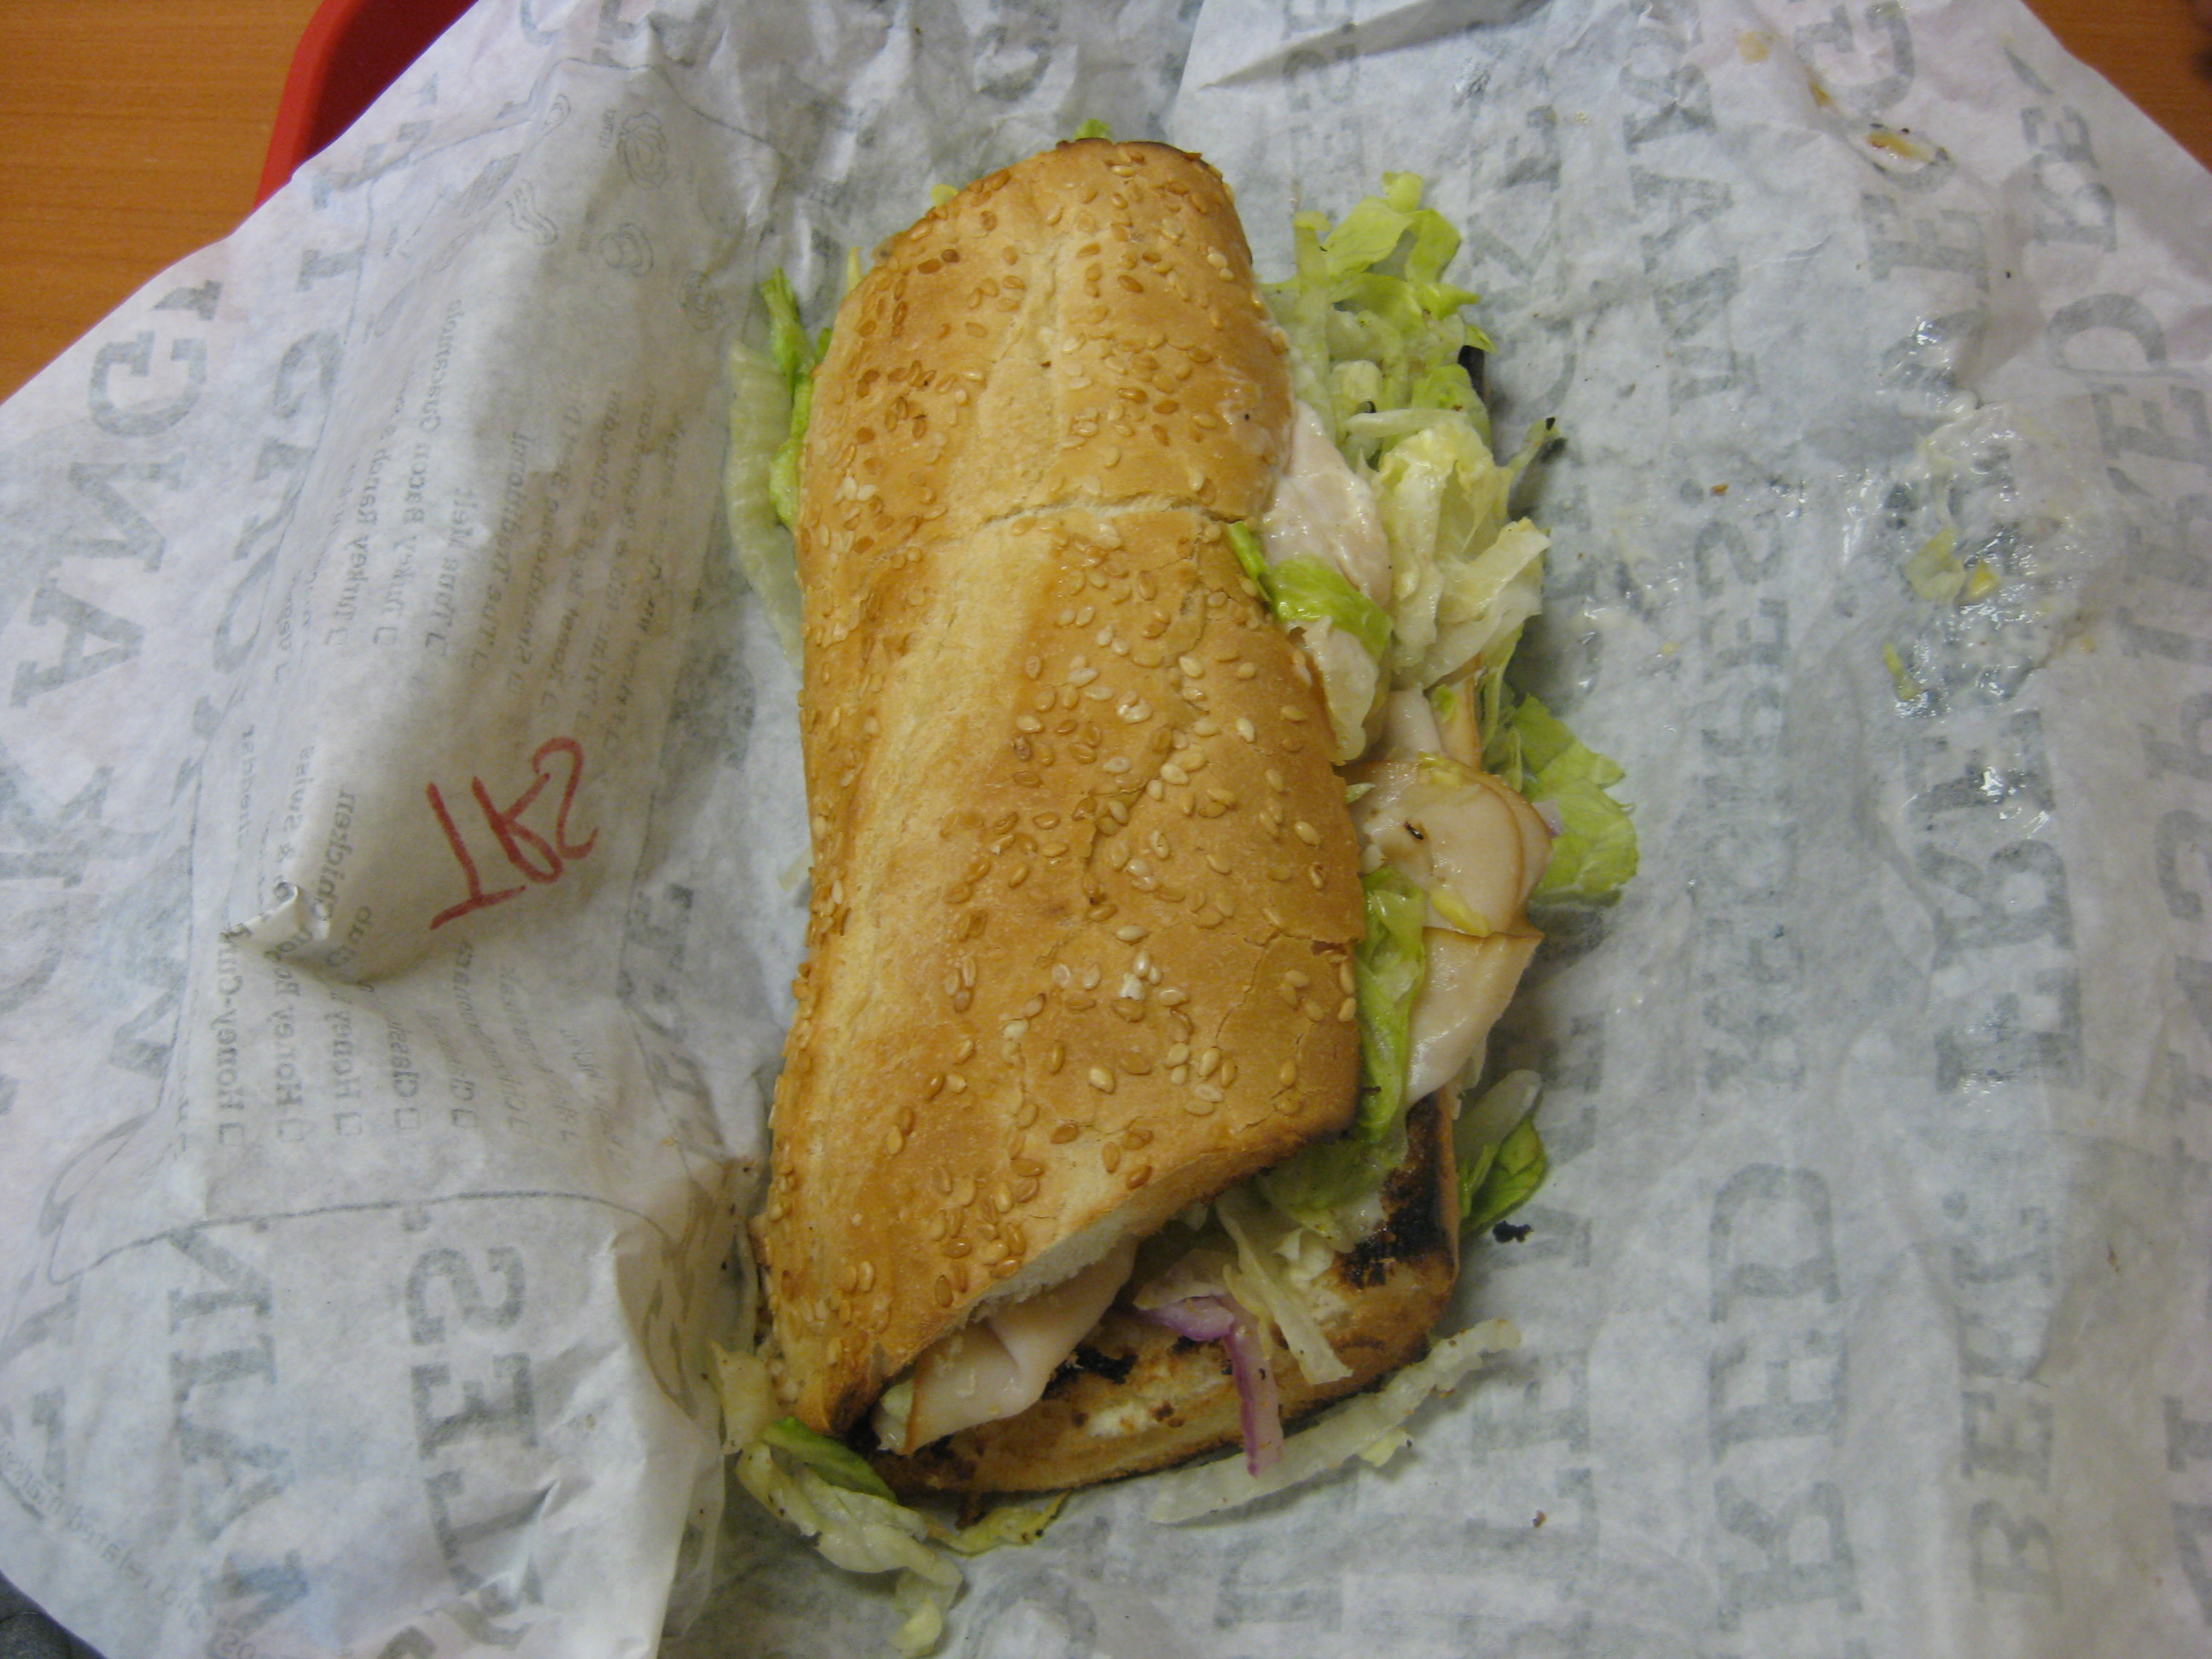sub: (758, 151, 1531, 1536)
